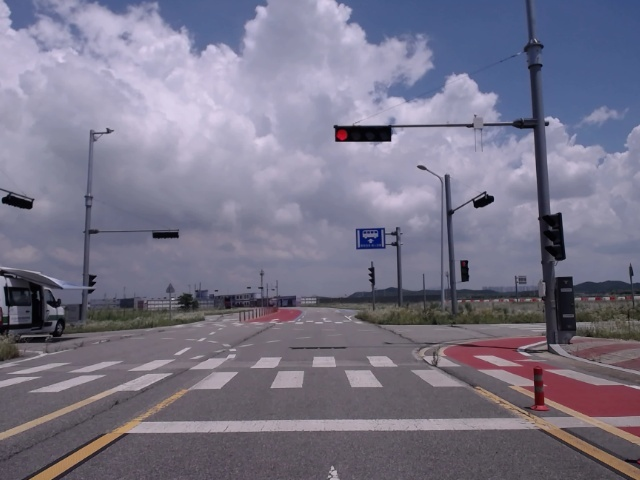red_4: (334, 128, 391, 142)
